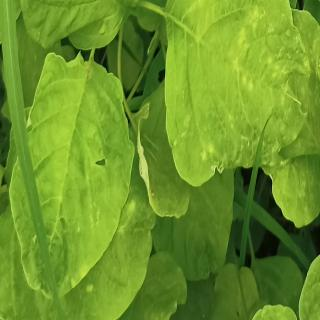karat_putih: (183, 0, 308, 197), (0, 0, 19, 56)
virus_keriting: (19, 0, 128, 54)
